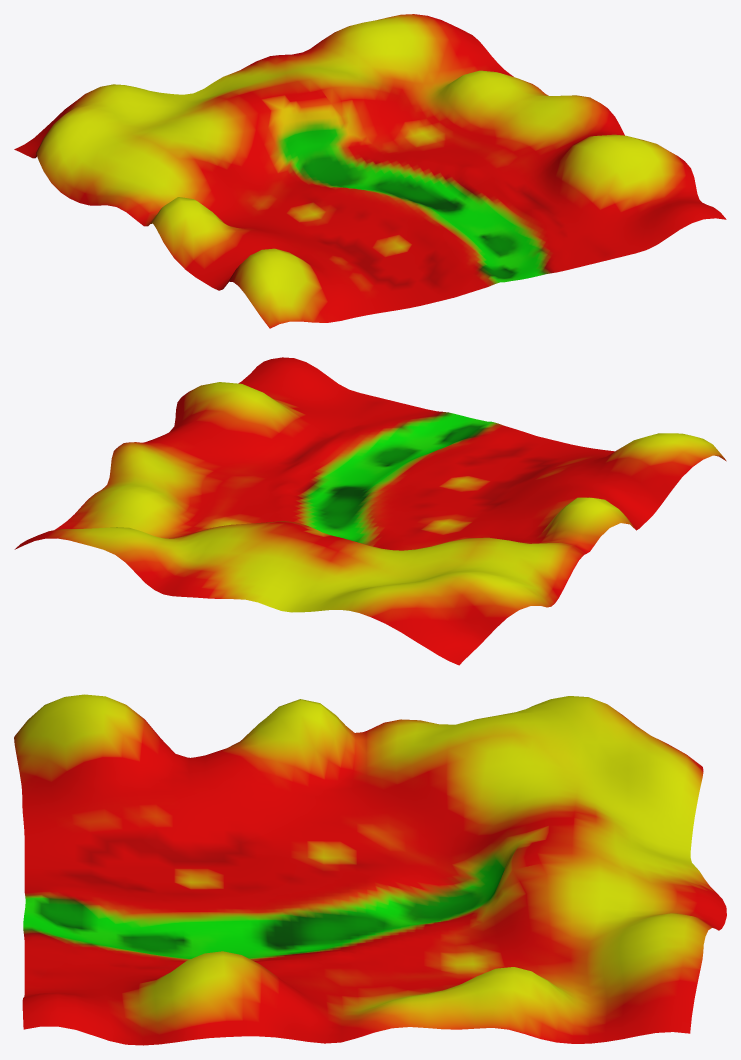
File: Outdoors1_Terrain.fbx
3 renders of one model, top to bottom at view 1: azimuth 30°, elevation 25°; view 2: azimuth 150°, elevation 25°; view 3: azimuth 270°, elevation 25°, orthographic. The views are drawn at different scales.
Parts seen in each view (by area): view 1: Outdoors1_Terrain; view 2: Outdoors1_Terrain; view 3: Outdoors1_Terrain.
Part boxes in pixels (box(x1,y1,x2,y2)): Outdoors1_Terrain: box(14, 14, 726, 328); Outdoors1_Terrain: box(14, 357, 726, 665); Outdoors1_Terrain: box(14, 694, 726, 1045).
Bounding box in the file's own units: 4467 × 587 × 4292.
